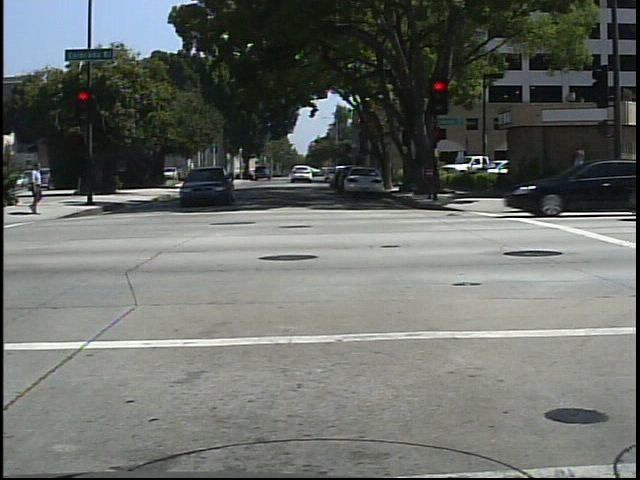person: (25, 157, 47, 220), (565, 143, 595, 171)
